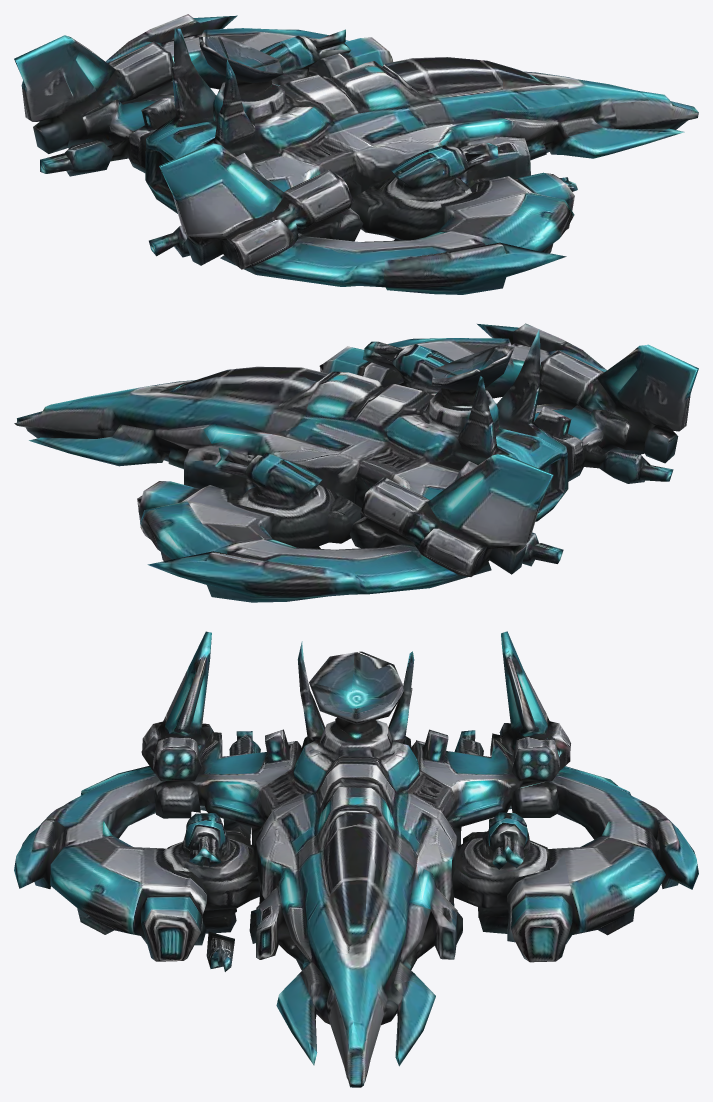
The model's file is rampart.glb.
The picture shows the model from 3 angles, top to bottom: view 1: azimuth 30°, elevation 25°; view 2: azimuth 150°, elevation 25°; view 3: azimuth 270°, elevation 25°; orthographic projection. The views are drawn at different scales.
Visible parts, largest first — view 1: tripo_node_62f8c092-e570-4e2f-bffb-321d34601075; view 2: tripo_node_62f8c092-e570-4e2f-bffb-321d34601075; view 3: tripo_node_62f8c092-e570-4e2f-bffb-321d34601075.
Boxes of the visible parts, bbox=[...] form: tripo_node_62f8c092-e570-4e2f-bffb-321d34601075: bbox=[14, 14, 698, 294]; tripo_node_62f8c092-e570-4e2f-bffb-321d34601075: bbox=[14, 323, 698, 602]; tripo_node_62f8c092-e570-4e2f-bffb-321d34601075: bbox=[14, 631, 698, 1087].
Bounding box in the file's own units: 0.9796 × 0.3289 × 0.9337.
1 material, 1 textured.
